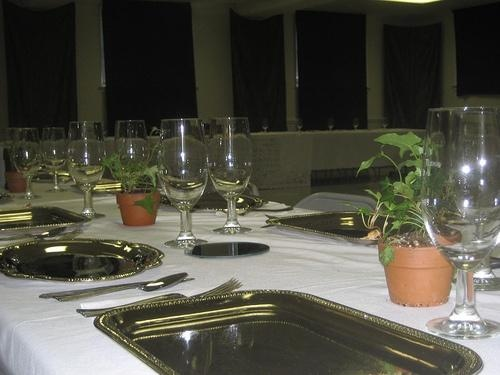diningtable: (2, 167, 500, 375)
pottedplant: (362, 133, 460, 307), (107, 128, 163, 227)
